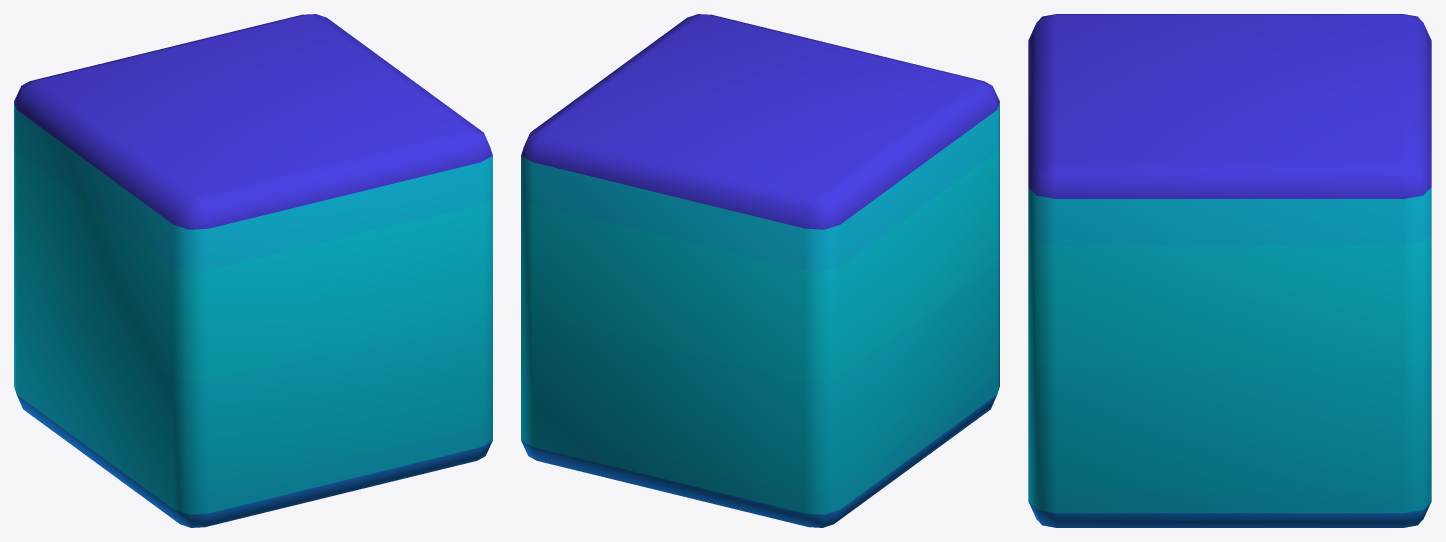
The picture shows the model from 3 angles, left to right: view 1: azimuth 30°, elevation 25°; view 2: azimuth 150°, elevation 25°; view 3: azimuth 270°, elevation 25°; orthographic projection. The views are drawn at different scales.
Parts seen in each view (by area): view 1: cube; view 2: cube; view 3: cube.
Boxes of the visible parts, bbox=[...] form: cube: bbox=[14, 14, 492, 527]; cube: bbox=[521, 14, 999, 527]; cube: bbox=[1028, 14, 1431, 527].
Bounding box in the file's own units: 10 × 10 × 10.
1 material, 1 textured.
